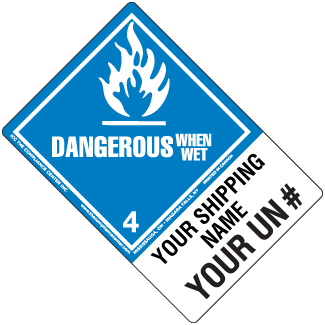Dangerous when wet: (2, 2, 263, 263)
